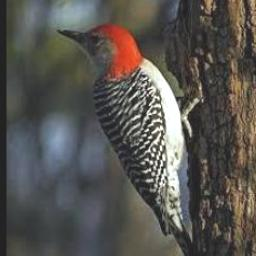Woodpecker: (57, 23, 198, 256)
